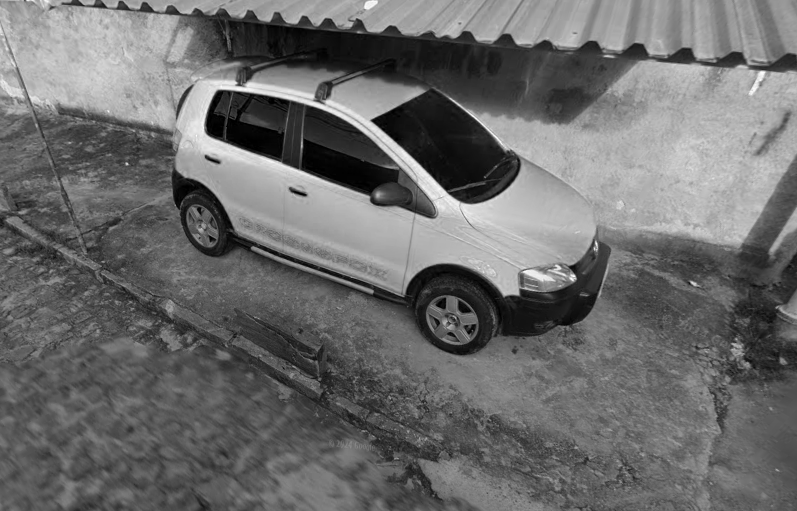car: (170, 46, 616, 357)
